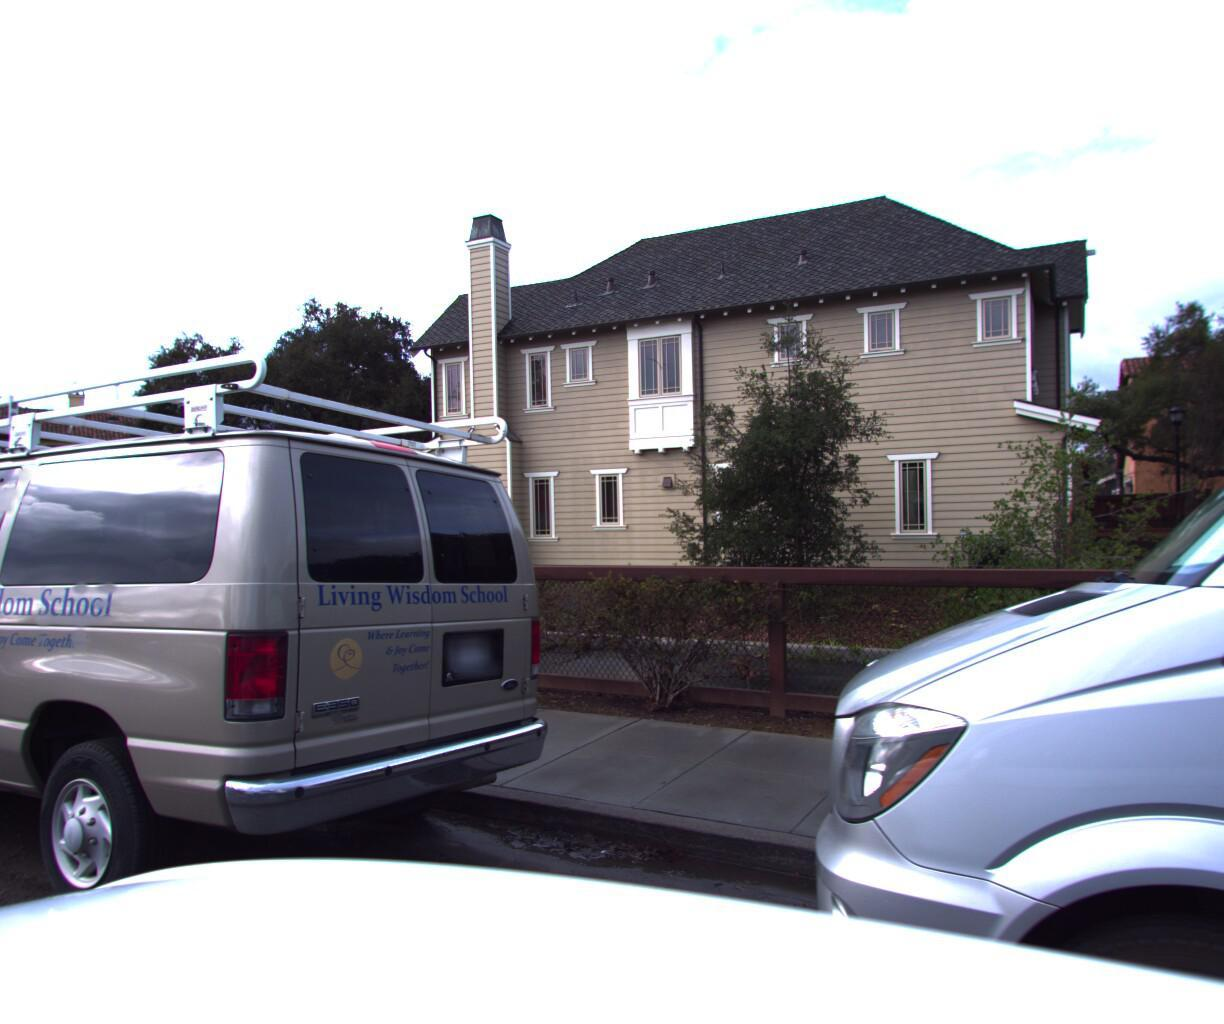car: (0, 323, 572, 1009)
